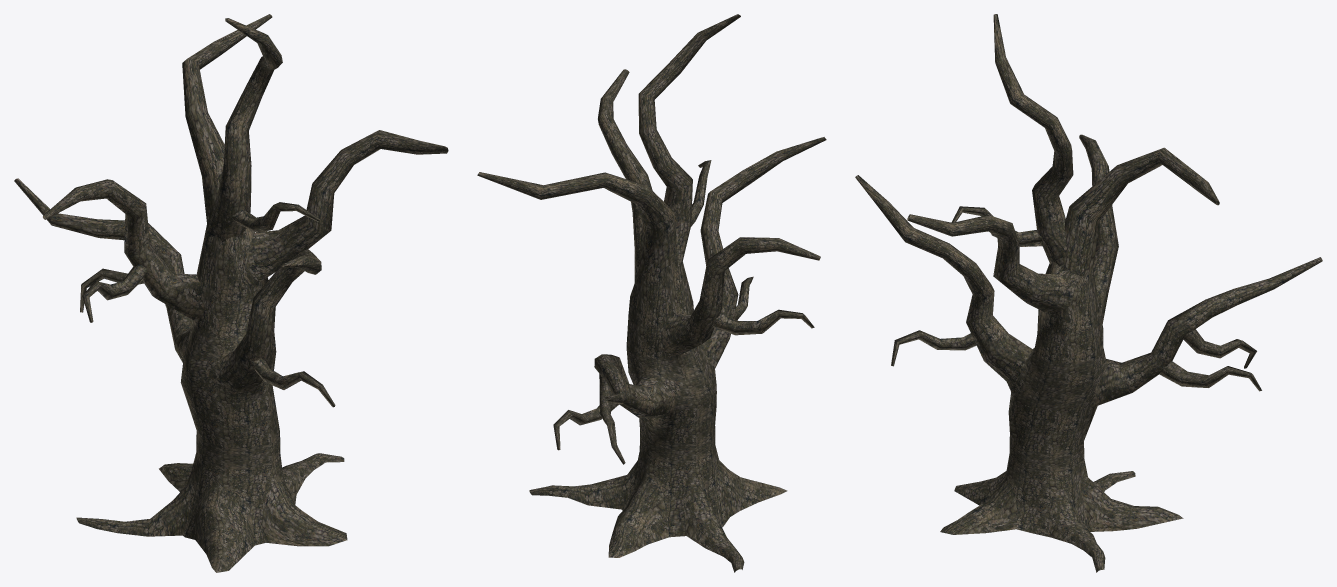
File: EKH_ENTRANCE_PS_EN_TREE003__GX.obj
3 renders of one model, left to right at view 1: azimuth 30°, elevation 25°; view 2: azimuth 150°, elevation 25°; view 3: azimuth 270°, elevation 25°, orthographic. The views are drawn at different scales.
Visible parts, largest first — view 1: EN_Tree003__GX; view 2: EN_Tree003__GX; view 3: EN_Tree003__GX.
Boxes of the visible parts, x1,y1,x2,y2 form: EN_Tree003__GX: (14, 14, 448, 572); EN_Tree003__GX: (477, 14, 826, 572); EN_Tree003__GX: (855, 14, 1322, 572).
Bounding box in the file's own units: 1836 × 3062 × 2612.
